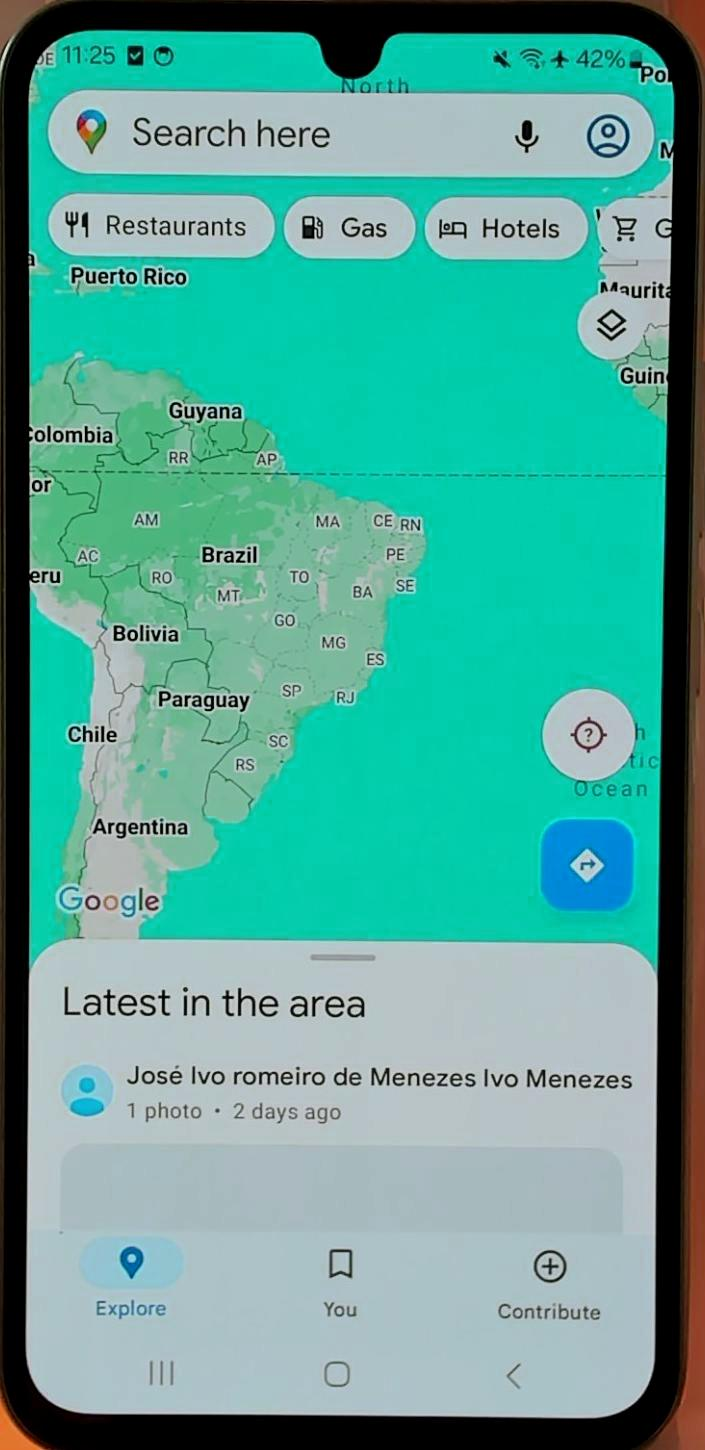CommunBotton: (45, 184, 276, 265), (425, 190, 593, 265), (74, 1225, 186, 1325), (490, 1236, 613, 1327), (538, 680, 639, 788), (538, 814, 639, 916), (283, 193, 420, 262), (574, 286, 649, 366), (294, 1338, 372, 1402), (314, 1237, 371, 1322), (132, 1342, 192, 1400), (583, 106, 638, 167), (486, 1348, 538, 1400), (498, 110, 551, 160)
TextField: (42, 84, 665, 186)
